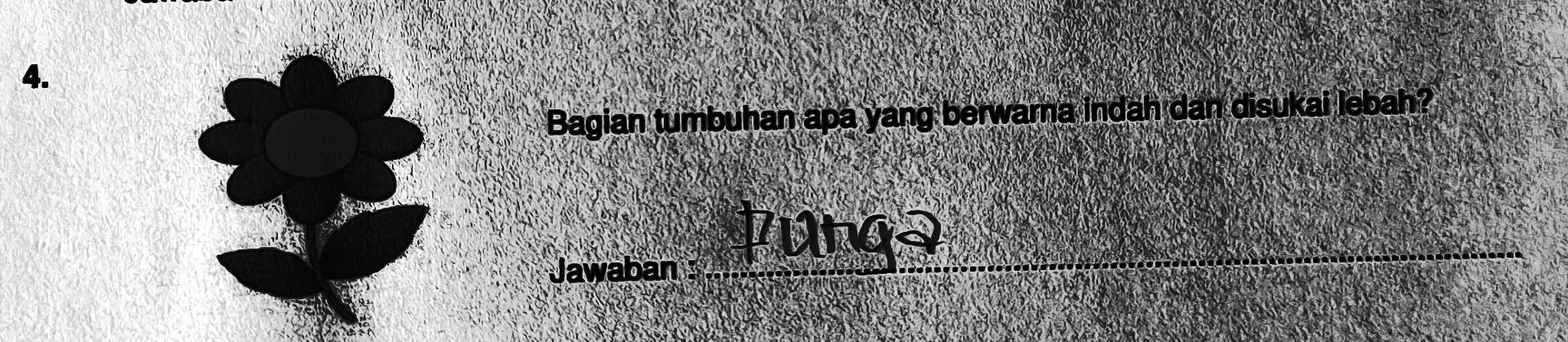jawaban: (731, 190, 958, 276)
